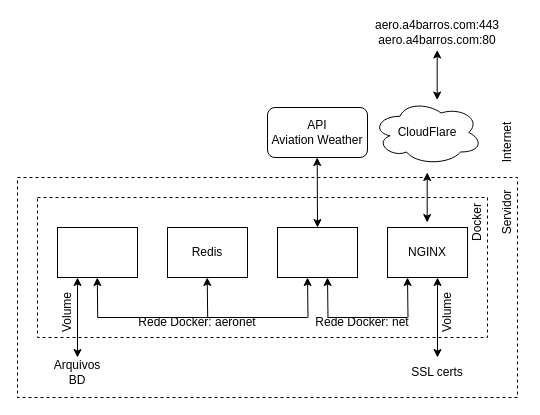
This 540x415 diagram has some shape labels left out. Each missing label, with the centre of its shape:
MariaDB: [97,252]
Uvicorn: [317,252]
